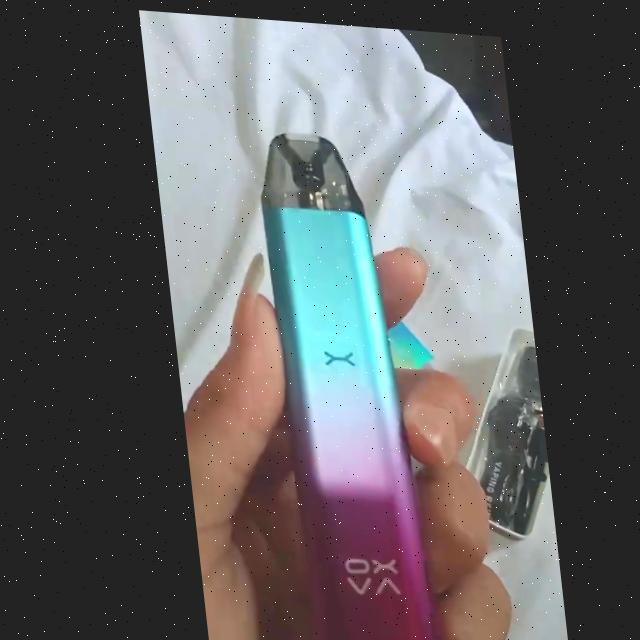vape: (247, 126, 423, 640)
